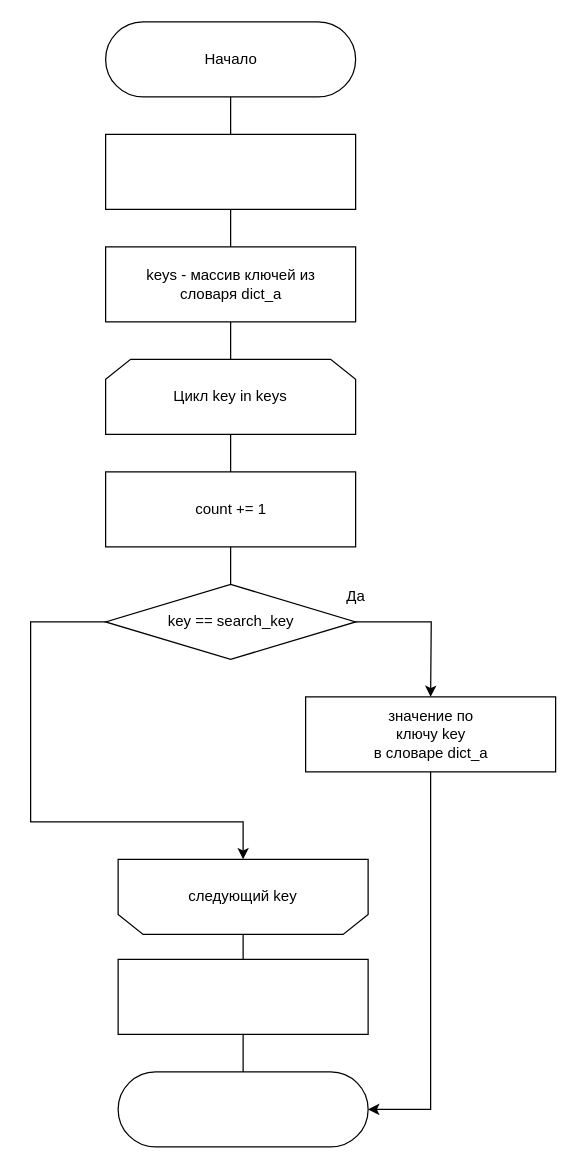
This 578x1169 diagram has some shape labels left out. Here are the shapes that lost their labels. From the top down, the centre of each, then its label:
At point (230, 171): "Инициализация count = 0".
At point (242, 996): "count = -1 (не найден ключ в словаре)".
At point (242, 1109): "Конец".
